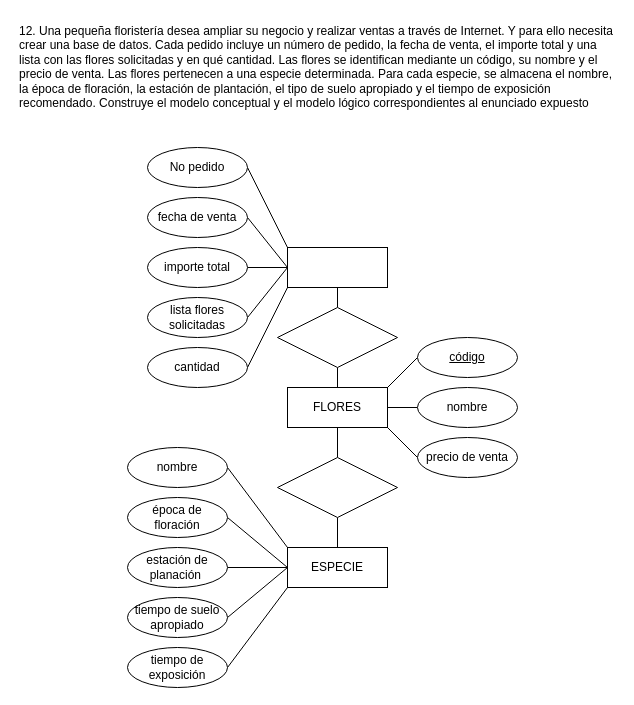
The diagram is 634 pixels wide and 705 high, and some of its shapes have lost their labels. The shapes that lost their labels are listed below. From the top down, each one's centre as x and y in pixels, then its label:
At point (337, 267): "PEDIDO".
At point (337, 337): "solucitud de n:N".
At point (337, 487): "pertenece a n:1".
